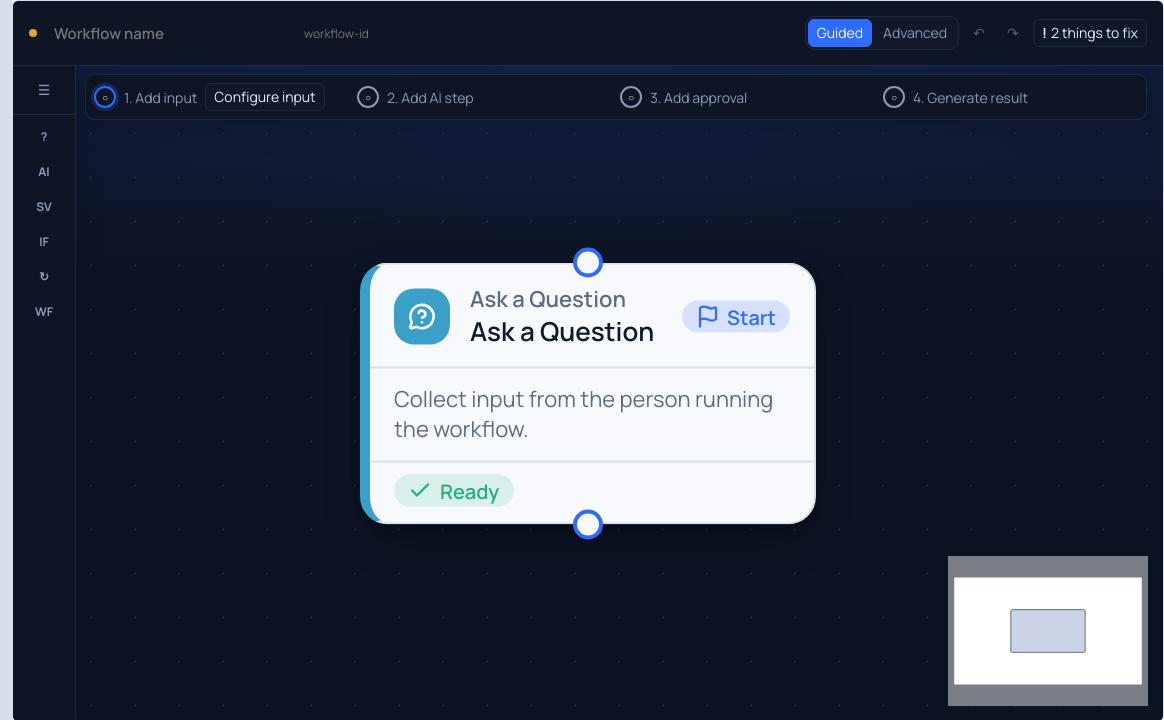
Test case: WorkflowBuilder smoke › shows the canvas start-here hint again after switching to advanced mode
Step 1. Click the button with test id "workflow-builder-mode-advanced" → (915, 33), box [874,19,956,47]
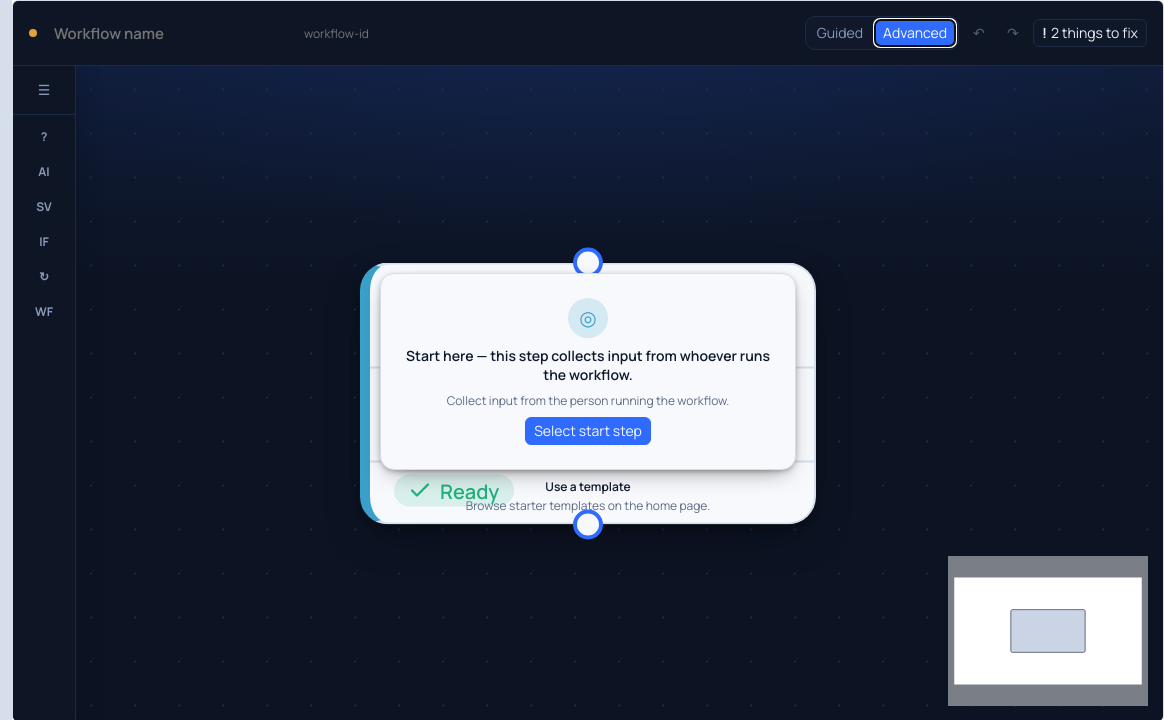
Result: the text "Start here" is shown at [406,346,770,384]
